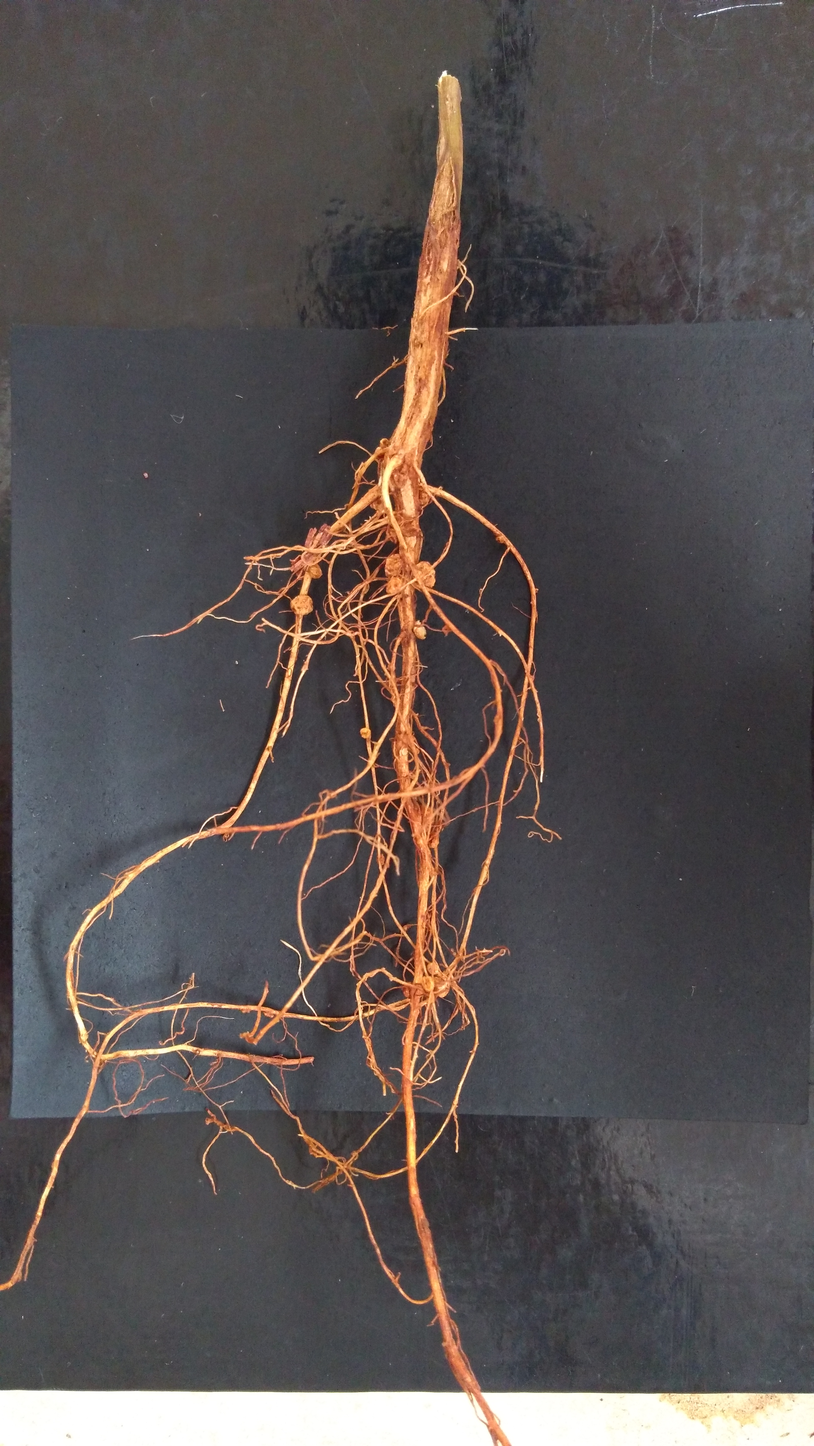nodule: (410, 561, 436, 589), (385, 469, 408, 494), (399, 516, 423, 538), (384, 553, 404, 578), (289, 595, 313, 615), (418, 804, 436, 829), (289, 554, 306, 576), (434, 976, 451, 997), (300, 549, 321, 566), (418, 487, 436, 505), (413, 620, 428, 640), (386, 577, 403, 594), (386, 524, 400, 544), (369, 494, 385, 511), (425, 831, 439, 849), (421, 975, 435, 993), (388, 512, 402, 529), (239, 1030, 256, 1044), (309, 563, 323, 579), (402, 982, 415, 999), (379, 438, 391, 450), (427, 962, 439, 974), (374, 446, 385, 459), (402, 733, 415, 744), (360, 727, 371, 739), (441, 624, 453, 634), (376, 853, 385, 865), (262, 1011, 275, 1018), (496, 535, 506, 544), (386, 662, 396, 671), (240, 1007, 252, 1014), (400, 747, 409, 755), (413, 746, 420, 754), (391, 360, 396, 368), (450, 948, 454, 952), (453, 951, 456, 956)
